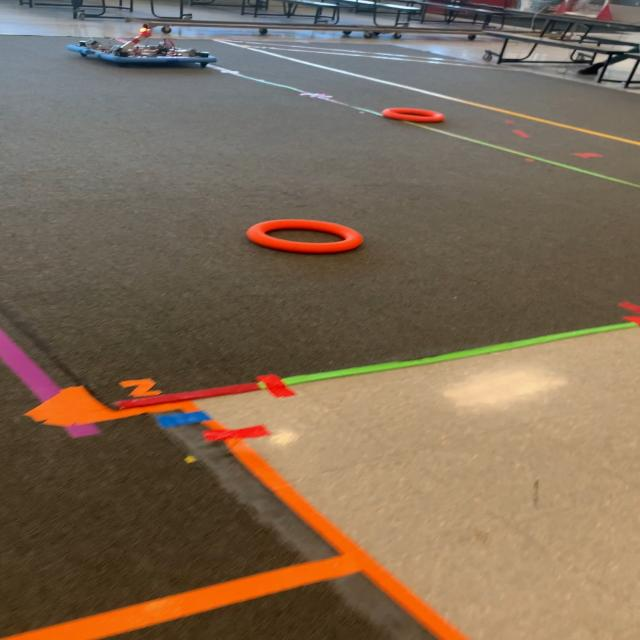notes: (247, 218, 361, 255), (381, 108, 446, 122)
